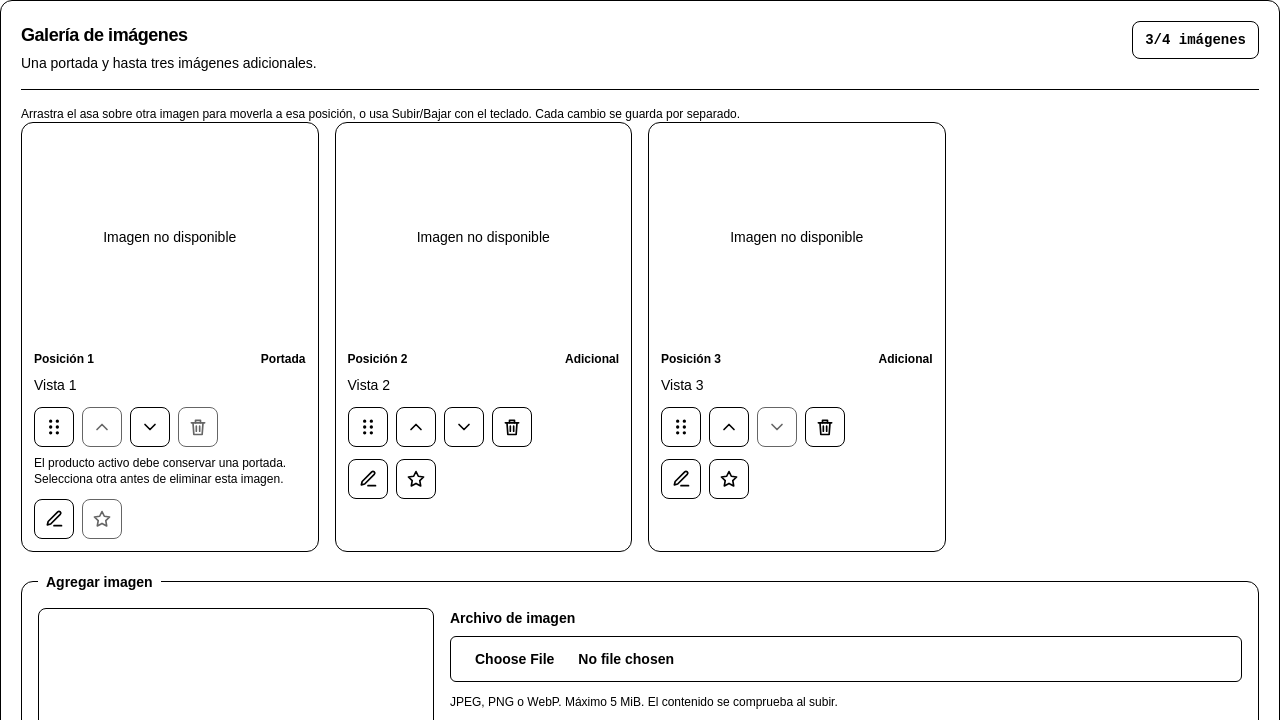
administrative gallery editing › selects exactly one cover from the authoritative response
The width and height of the screenshot is (1280, 720).
Click the button named "Usar Vista 2 como portada" at {"x": 416, "y": 479}, box 396,459 -> 436,499
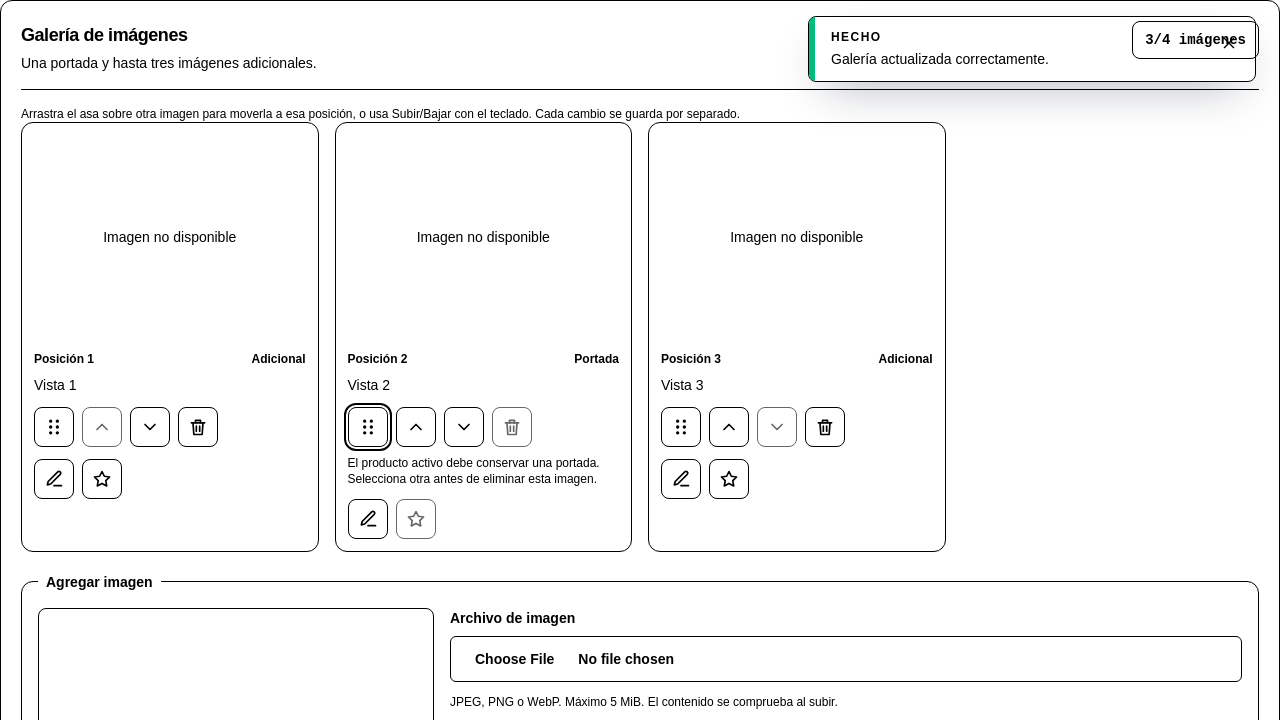
Check: the text "Portada" is shown once, box 574,351 -> 619,367
Check: the button named "Vista 2 es portada" is disabled, box 396,499 -> 436,539
Check: the button named "Usar Vista 1 como portada" is enabled, box 82,459 -> 122,499
